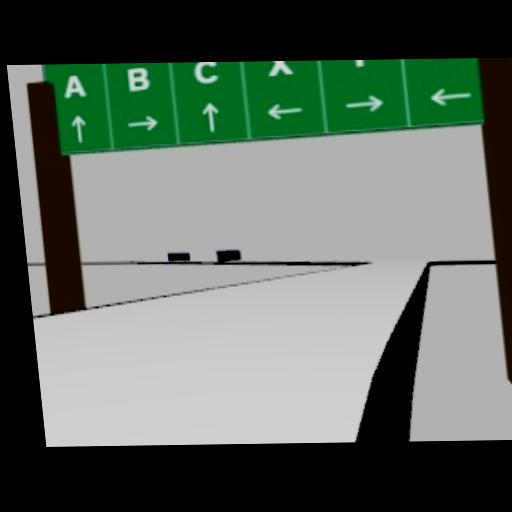A: (61, 74, 87, 98)
B: (125, 64, 151, 92)
C: (191, 62, 221, 84)
Left: (425, 86, 472, 105), (266, 102, 304, 120)
Right: (344, 94, 384, 112), (126, 114, 160, 132)
Straight: (200, 102, 220, 132), (68, 114, 88, 142)
X: (266, 61, 295, 75)
Y: (353, 59, 365, 66)
